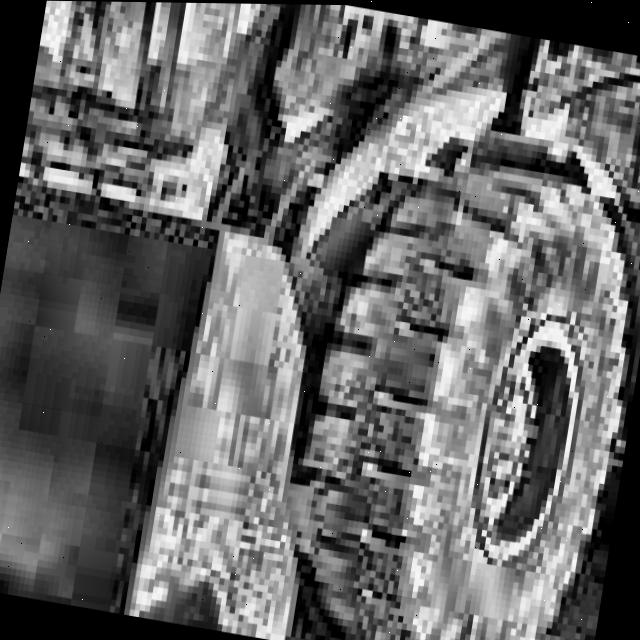buldozerpayloadergrader: (129, 2, 640, 640)
